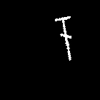double_crochet: (55, 17, 70, 59)
